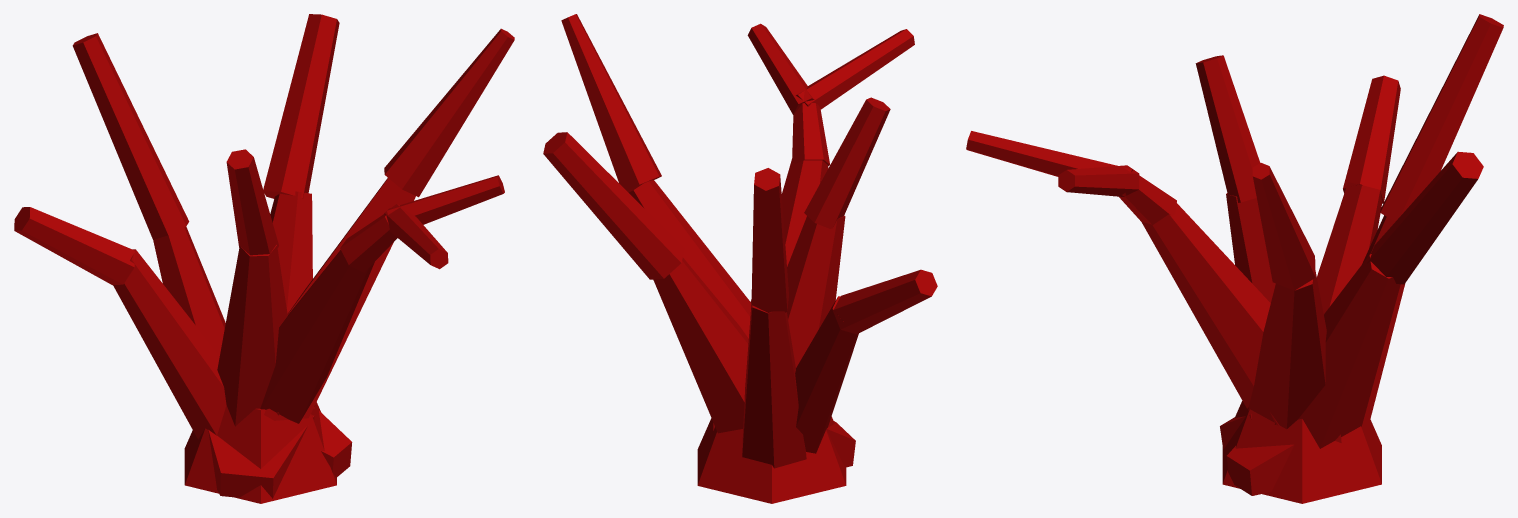
The model's file is SM_Env_Tree_Pohutukawa_02_Collision.glb.
3 views of the same model, side by side, from view 1: azimuth 30°, elevation 25°; view 2: azimuth 150°, elevation 25°; view 3: azimuth 270°, elevation 25° (orthographic). The views are drawn at different scales.
Parts seen in each view (by area): view 1: SM_Env_Tree_Pohutukawa_02_Collision; view 2: SM_Env_Tree_Pohutukawa_02_Collision; view 3: SM_Env_Tree_Pohutukawa_02_Collision.
Boxes of the visible parts, <box> form: SM_Env_Tree_Pohutukawa_02_Collision: <box>14,14,514,503</box>; SM_Env_Tree_Pohutukawa_02_Collision: <box>543,14,937,503</box>; SM_Env_Tree_Pohutukawa_02_Collision: <box>966,14,1503,503</box>.
Bounding box in the file's own units: 3.14 × 2.71 × 3.18.
